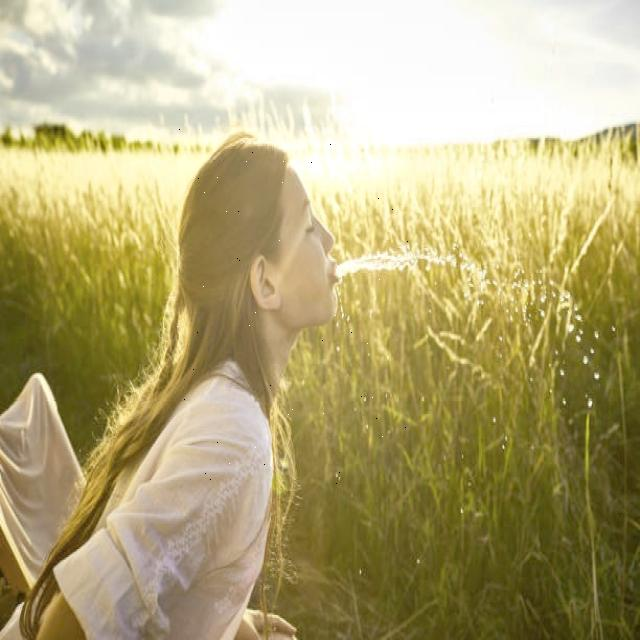Spitting: (177, 127, 409, 484)
